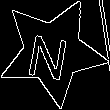N_N: (29, 24, 76, 80)
